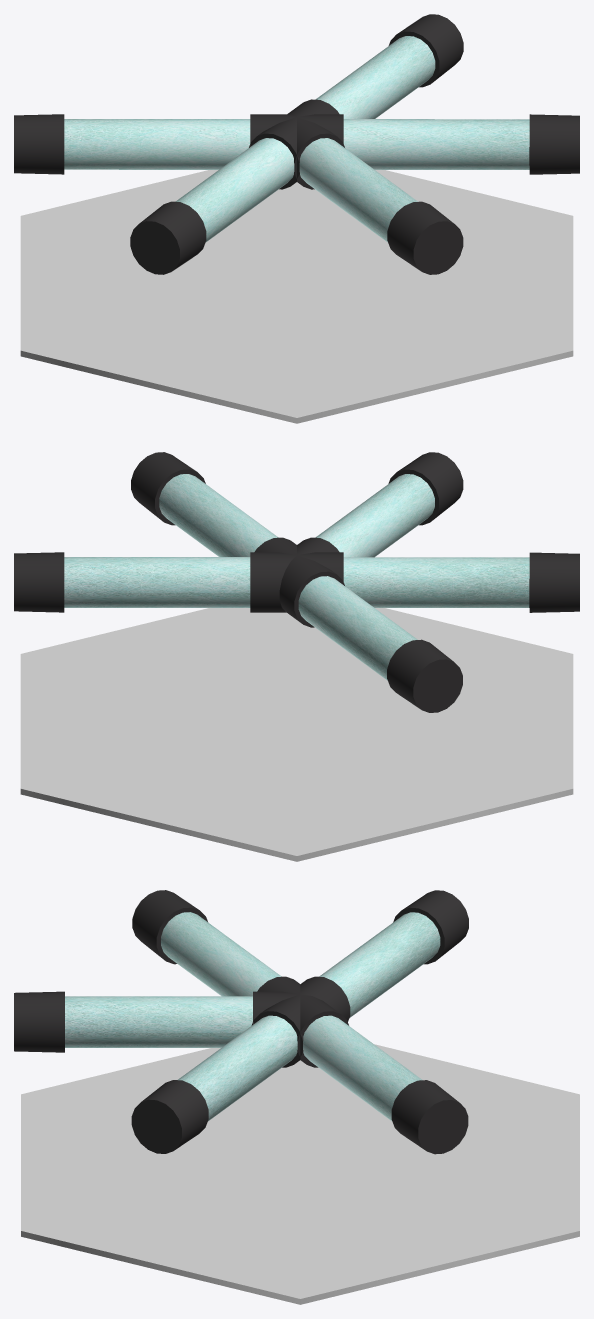
The model's file is penta.FBX.
The picture shows the model from 3 angles, top to bottom: view 1: azimuth 30°, elevation 25°; view 2: azimuth 150°, elevation 25°; view 3: azimuth 270°, elevation 25°; orthographic projection.
Parts seen in each view (by area): view 1: Cylinder020, Cylinder023, Cylinder021, Cylinder022; view 2: Cylinder020, Cylinder021, Cylinder023, Cylinder022; view 3: Cylinder020, Cylinder023, Cylinder021, Cylinder022.
Boxes of the visible parts, left/top/right/bottom form: Cylinder020: left=20, top=170, right=573, bottom=423; Cylinder023: left=14, top=114, right=579, bottom=174; Cylinder021: left=130, top=14, right=463, bottom=274; Cylinder022: left=294, top=117, right=463, bottom=274; Cylinder020: left=20, top=608, right=573, bottom=861; Cylinder021: left=14, top=552, right=579, bottom=612; Cylinder023: left=131, top=452, right=462, bottom=712; Cylinder022: left=297, top=452, right=463, bottom=557; Cylinder020: left=21, top=1044, right=579, bottom=1304; Cylinder023: left=131, top=890, right=468, bottom=1153; Cylinder021: left=132, top=890, right=468, bottom=1154; Cylinder022: left=14, top=991, right=299, bottom=1052.
Bounding box in the file's own units: 100 × 29.75 × 87.66.
Materials: 2 (2 with a texture image).
